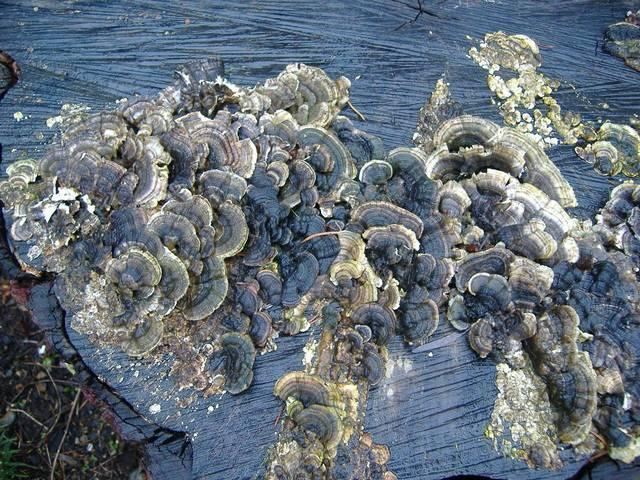Non-edible Mushroom: (2, 53, 636, 476)
